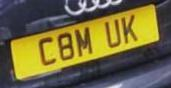8: (57, 31, 74, 61)
C: (38, 36, 56, 65)
K: (121, 14, 138, 44)
M: (75, 26, 94, 57)
U: (104, 18, 121, 49)
